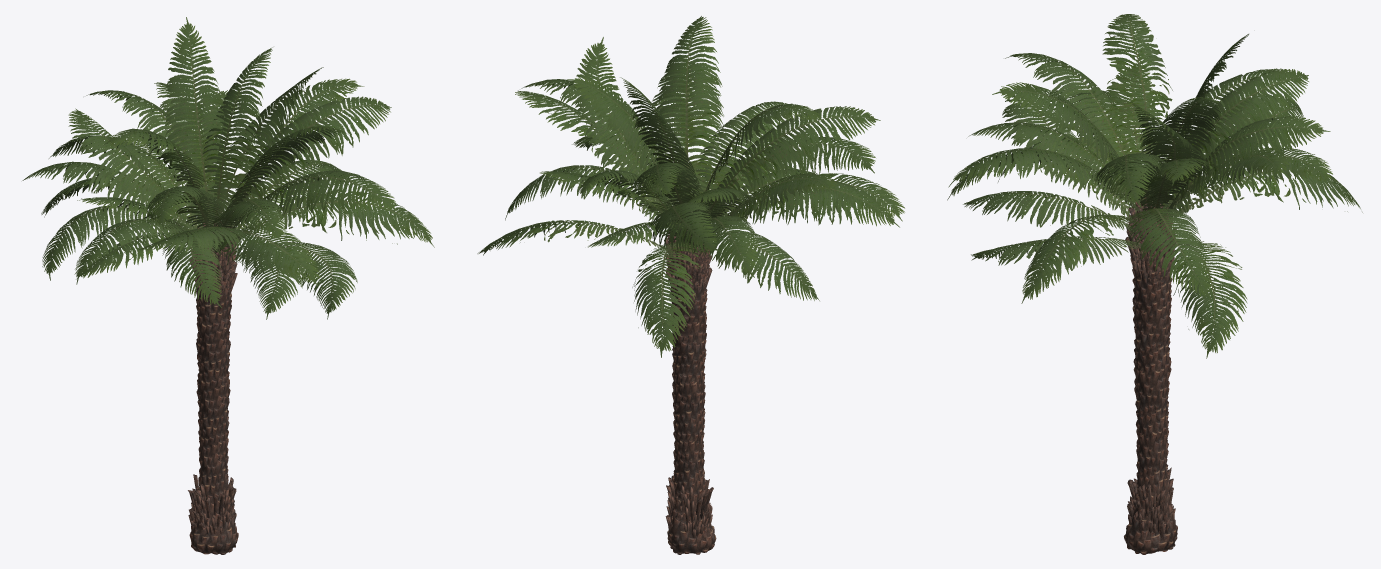
Rendered from tree_fern_large_fe1198b6.glb.
3 renders of one model, left to right at view 1: azimuth 30°, elevation 25°; view 2: azimuth 150°, elevation 25°; view 3: azimuth 270°, elevation 25°, orthographic. The views are drawn at different scales.
Parts seen in each view (by area): view 1: tree_fern_large_fe1198b6; view 2: tree_fern_large_fe1198b6; view 3: tree_fern_large_fe1198b6.
Part boxes in pixels (x1,y1,x2,y2): tree_fern_large_fe1198b6: (22, 17, 434, 554); tree_fern_large_fe1198b6: (477, 16, 904, 554); tree_fern_large_fe1198b6: (947, 14, 1362, 554).
Size of the model in its own units: 9.12 by 11.74 by 8.52.
2 materials, 2 textured.
